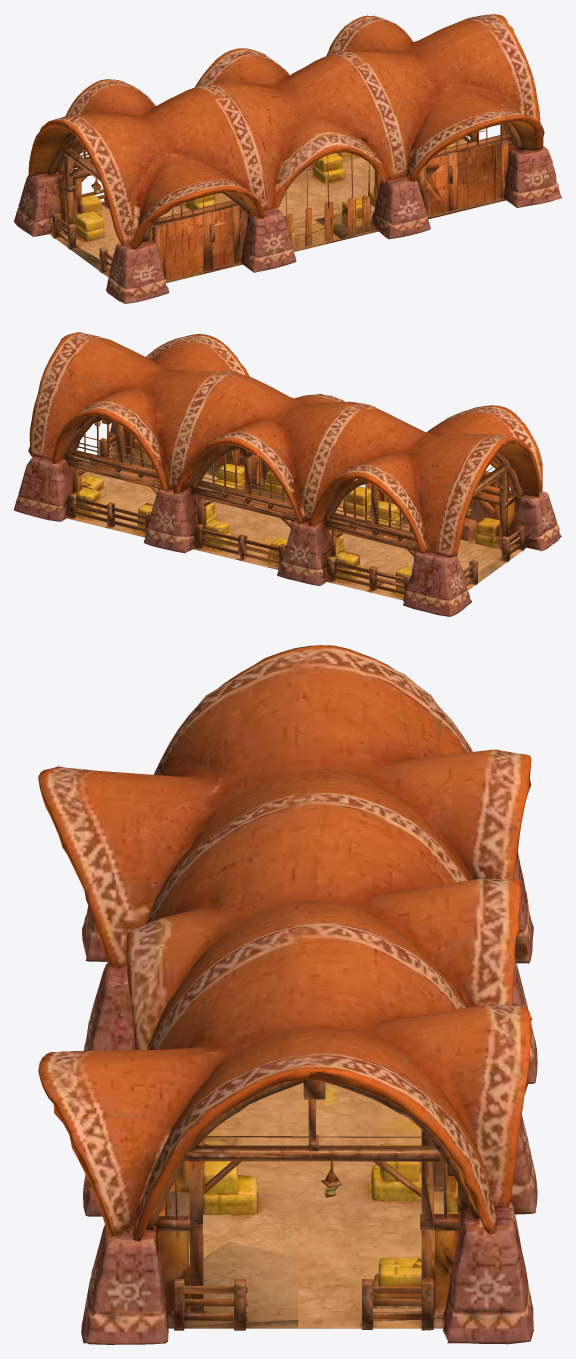
The picture shows the model from 3 angles, top to bottom: view 1: azimuth 30°, elevation 25°; view 2: azimuth 150°, elevation 25°; view 3: azimuth 270°, elevation 25°; orthographic projection. The views are drawn at different scales.
Visible parts, largest first — view 1: Mesh_0; view 2: Mesh_0; view 3: Mesh_0.
Part boxes in pixels (x1,y1,x2,y2): Mesh_0: [14, 14, 561, 303]; Mesh_0: [14, 332, 561, 616]; Mesh_0: [38, 645, 537, 1344].
Size of the model in its own units: 8.31 by 2.48 by 4.08.
Materials: 1 (1 with a texture image).
